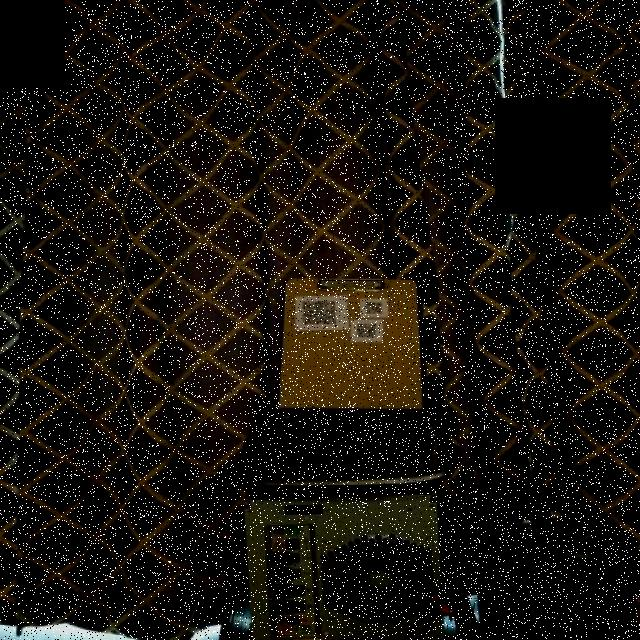QR_CODE: (295, 295, 344, 326), (352, 320, 388, 345), (362, 298, 390, 316)
